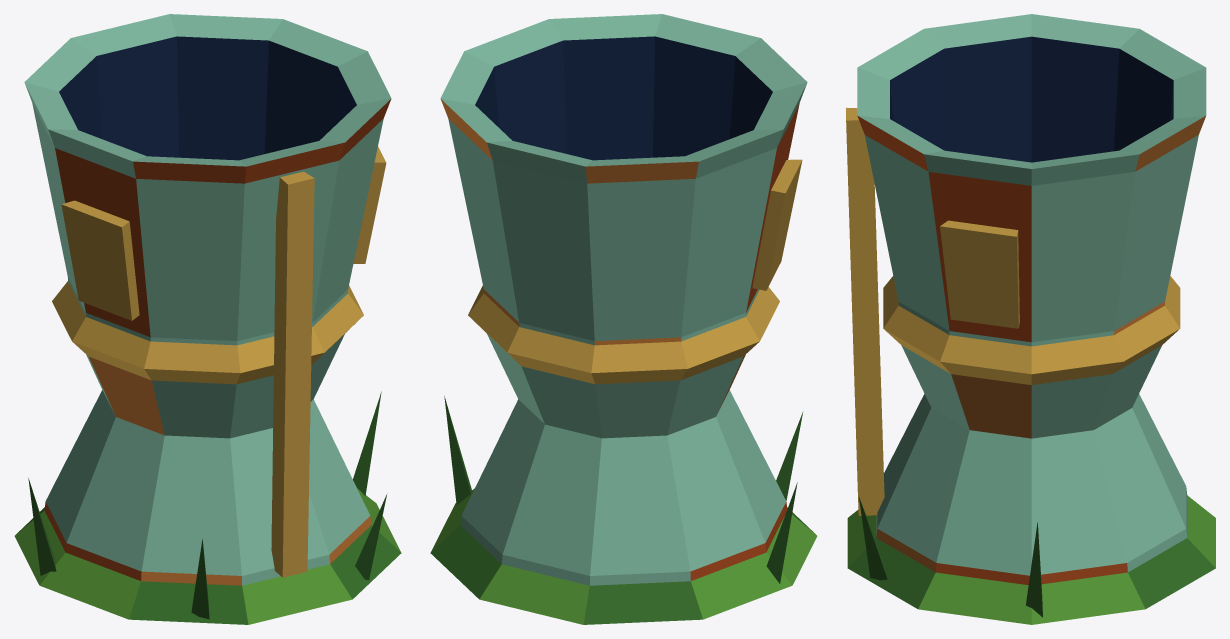
The model's file is steam-plume-f06841.glb.
The picture shows the model from 3 angles, left to right: view 1: azimuth 30°, elevation 25°; view 2: azimuth 150°, elevation 25°; view 3: azimuth 270°, elevation 25°; orthographic projection.
Parts seen in each view (by area): view 1: pot; view 2: pot; view 3: pot.
Part boxes in pixels (box(x1,y1,x2,y2)): pot: box(14, 14, 401, 624); pot: box(430, 14, 817, 624); pot: box(846, 14, 1215, 624).
Bounding box in the file's own units: 0.7297 × 0.9 × 0.6649.
